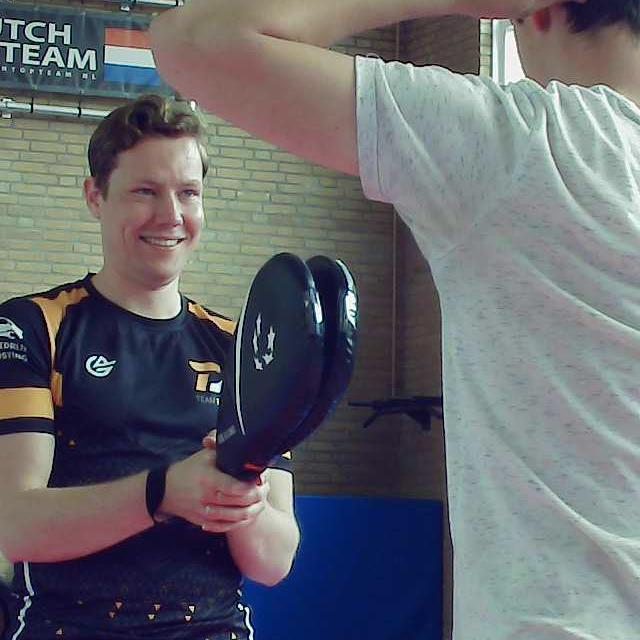paddle: (213, 253, 361, 482)
